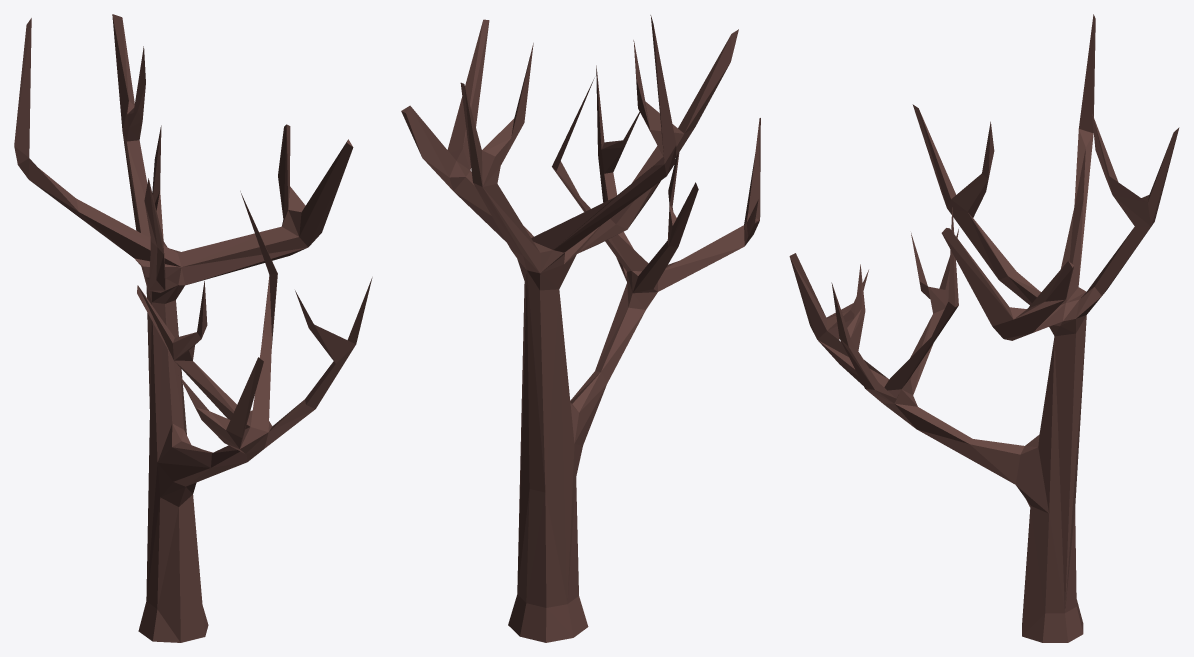
The model's file is CommonTree_Dead_2_lod.glb.
The picture shows the model from 3 angles, left to right: view 1: azimuth 30°, elevation 25°; view 2: azimuth 150°, elevation 25°; view 3: azimuth 270°, elevation 25°; orthographic projection. The views are drawn at different scales.
Visible parts, largest first — view 1: CommonTree_Dead_2; view 2: CommonTree_Dead_2; view 3: CommonTree_Dead_2.
Part boxes in pixels (left/top/right/bottom): CommonTree_Dead_2: left=14, top=14, right=372, bottom=642; CommonTree_Dead_2: left=401, top=15, right=760, bottom=642; CommonTree_Dead_2: left=789, top=14, right=1179, bottom=642.
Bounding box in the file's own units: 1.33 × 2.96 × 1.85.
